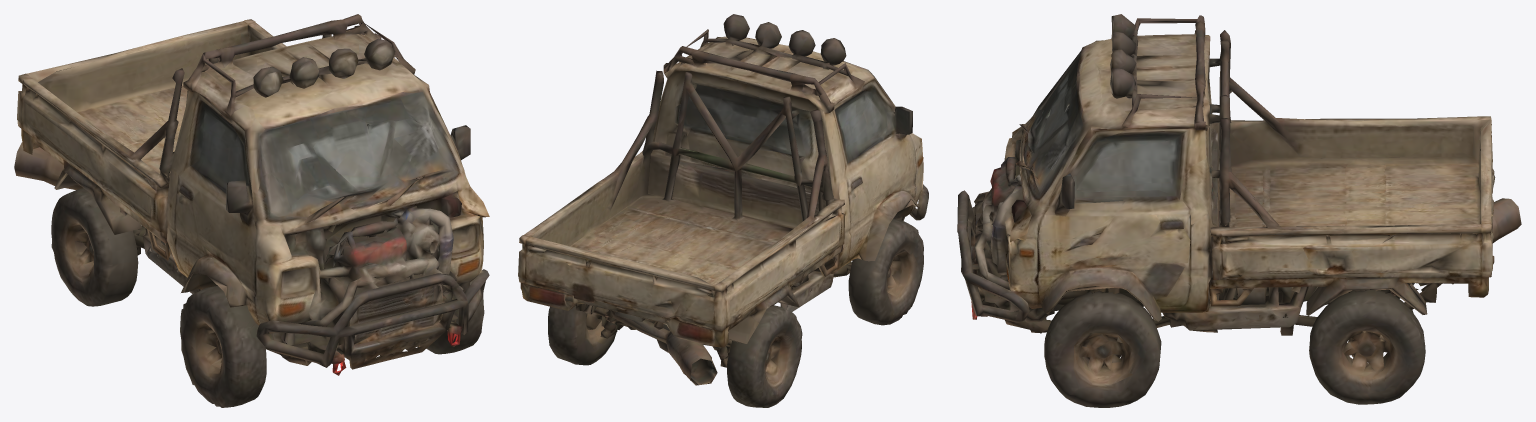
File: kei_truck_broken.glb
The picture shows the model from 3 angles, left to right: view 1: azimuth 30°, elevation 25°; view 2: azimuth 150°, elevation 25°; view 3: azimuth 270°, elevation 25°; orthographic projection. The views are drawn at different scales.
Parts seen in each view (by area): view 1: body, tailgate, door_r, wheel_fr, wheel_rr, wheel_fl; view 2: body, tailgate, door_r, wheel_rr, wheel_fr, wheel_rl; view 3: body, door_l, wheel_fl, wheel_rl, tailgate.
Part boxes in pixels (x1=…): body: x1=14, y1=14, x2=489, y2=375; tailgate: x1=17, y1=19, x2=258, y2=139; door_r: x1=174, y1=105, x2=247, y2=285; wheel_fr: x1=180, y1=286, x2=266, y2=407; wheel_rr: x1=51, y1=188, x2=138, y2=306; wheel_fl: x1=426, y1=278, x2=484, y2=354; body: x1=521, y1=14, x2=928, y2=385; tailgate: x1=518, y1=230, x2=733, y2=336; door_r: x1=834, y1=88, x2=909, y2=261; wheel_rr: x1=727, y1=305, x2=802, y2=407; wheel_fr: x1=848, y1=219, x2=923, y2=325; wheel_rl: x1=548, y1=306, x2=616, y2=365; body: x1=957, y1=14, x2=1521, y2=341; door_l: x1=1070, y1=139, x2=1191, y2=310; wheel_fl: x1=1044, y1=290, x2=1161, y2=407; wheel_rl: x1=1309, y1=290, x2=1425, y2=404; tailgate: x1=1464, y1=116, x2=1495, y2=285.
Size of the model in its own units: 2.12 by 2.48 by 4.12.
Materials: 1 (1 with a texture image).
